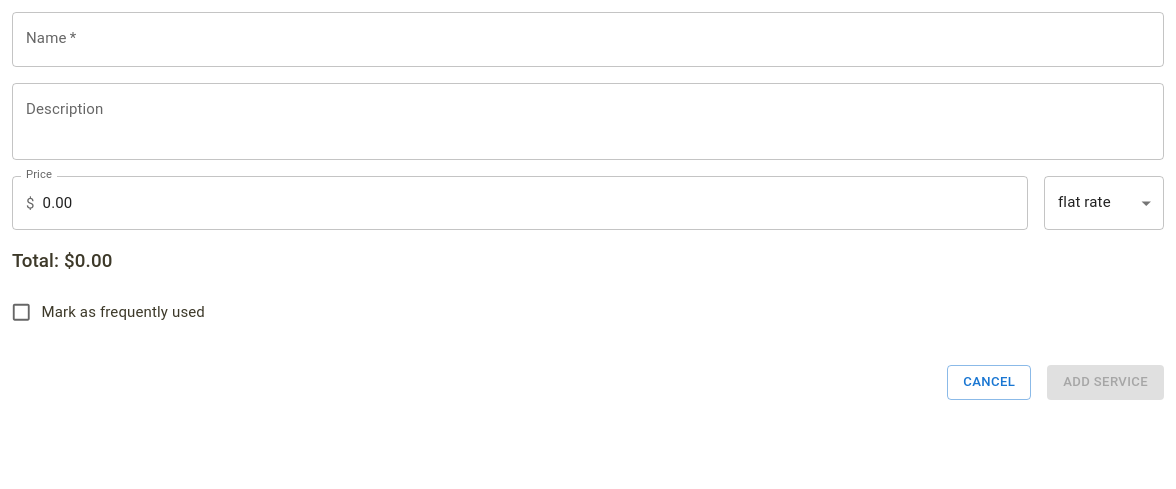
Test: Duplicate Service Name Handling › AddServiceForm › should display duplicate name error in the form
# Fill in the form
Type "Existing Service" into the field labelled "Name *" at (588, 39), box [12, 12, 1164, 67]
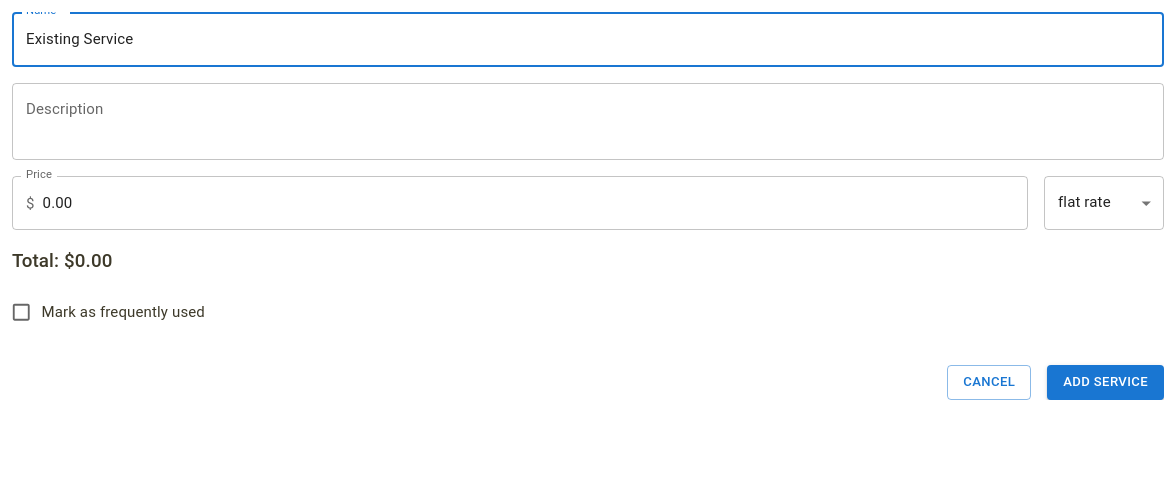
# Set a price
Replace the text in the field labelled "Price" with "50.00" at (535, 203), box [43, 176, 1028, 230]
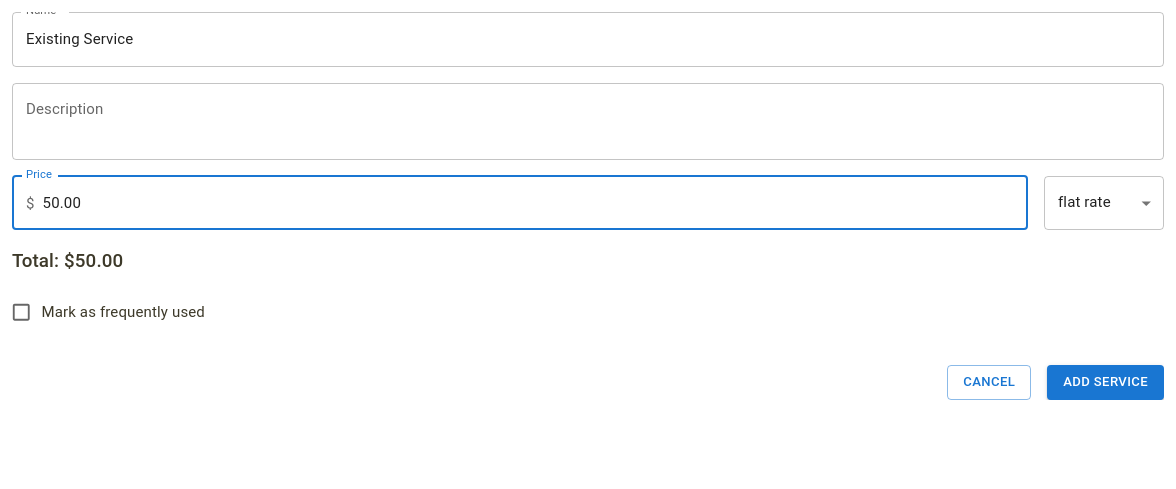
# Submit the form
Click the button "Add Service" at (1106, 382), box [1047, 365, 1164, 400]
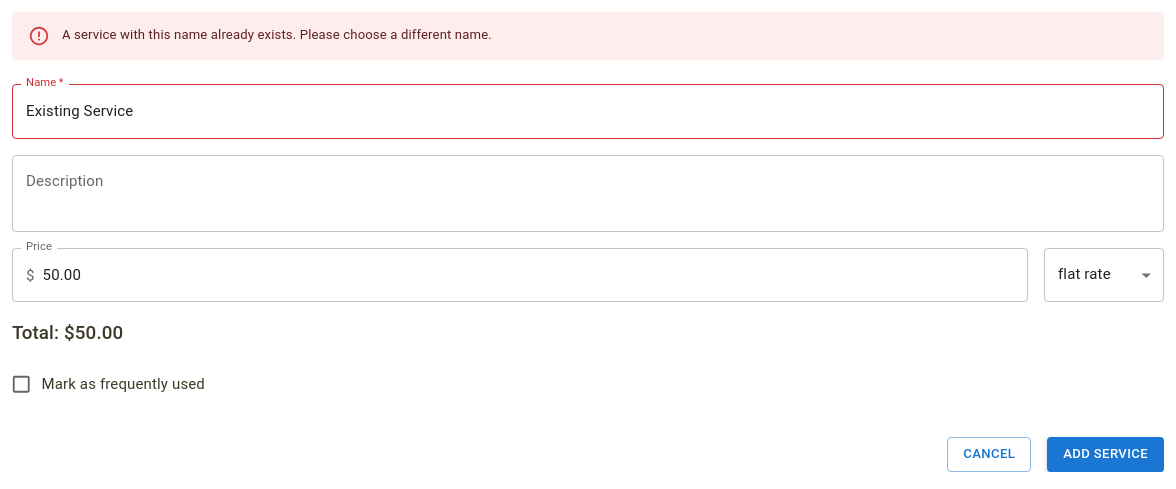
Check: the message shows "A service with this name already exists", box [62, 27, 492, 42]
